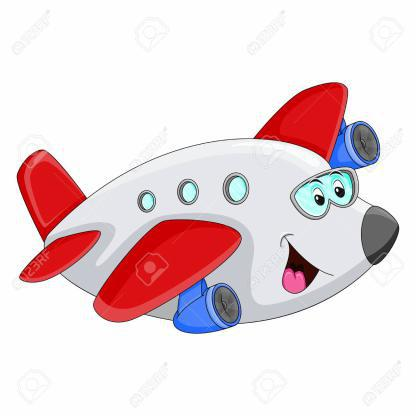CIV_Plane: (8, 68, 402, 345)
